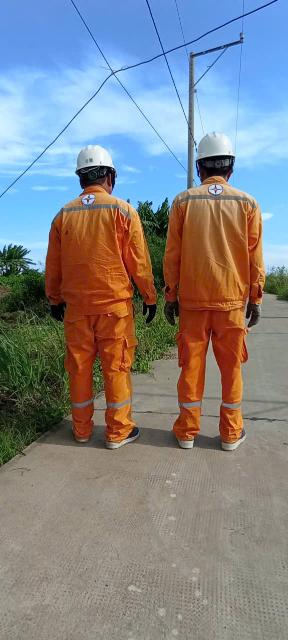gloves: (157, 294, 191, 328), (139, 298, 162, 332), (48, 298, 75, 323), (243, 298, 262, 333)
helmet: (61, 145, 126, 188), (182, 128, 238, 172)
shoes: (204, 424, 258, 450), (103, 424, 148, 453), (175, 421, 199, 457)
